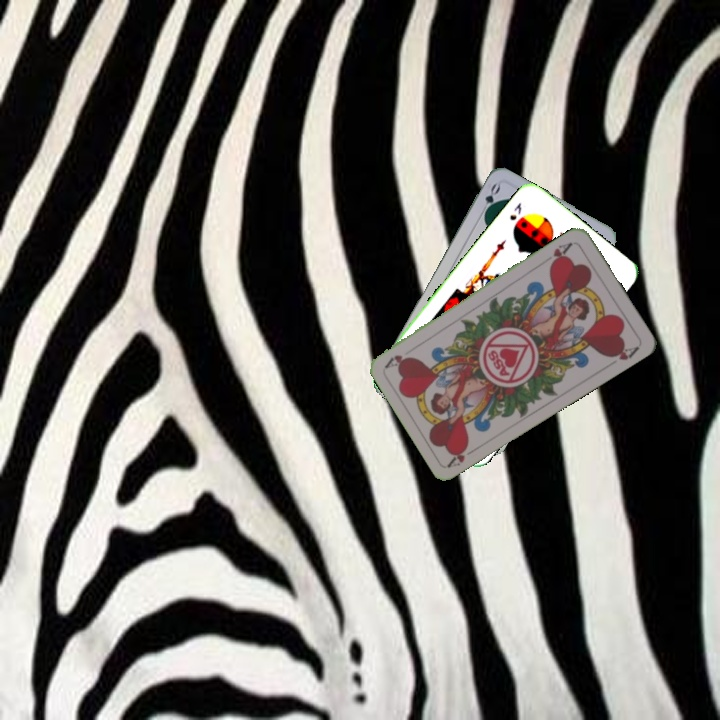GO: (476, 179, 503, 219)
HA: (444, 441, 482, 470), (540, 238, 575, 269)
SK: (505, 198, 524, 223)
